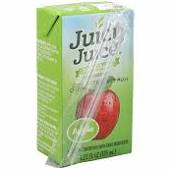Juice_Box: (32, 2, 136, 164)
